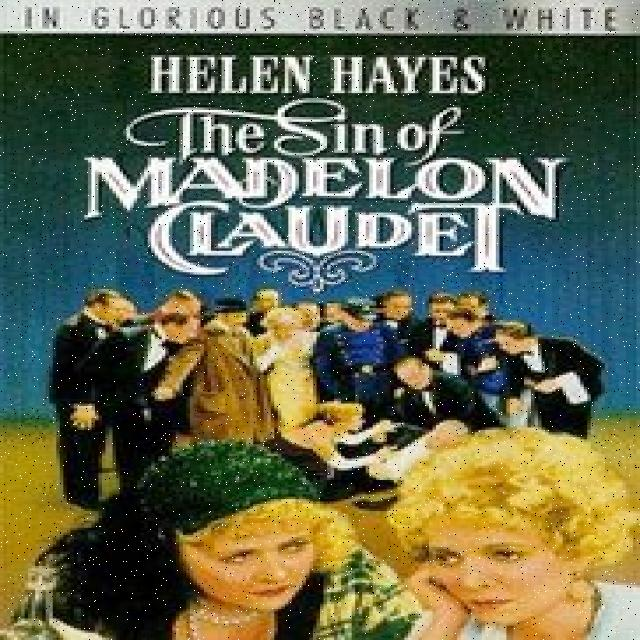movie-judul: (54, 95, 616, 286)
picture: (50, 289, 621, 640)
